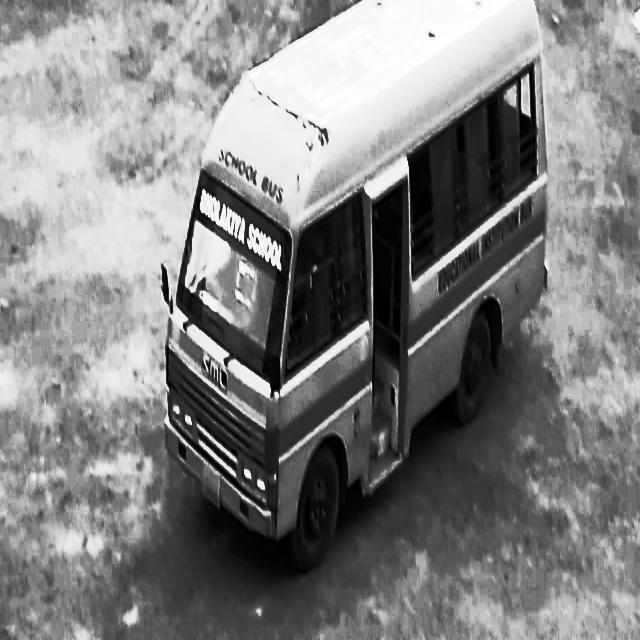Bus: (162, 22, 562, 568)
